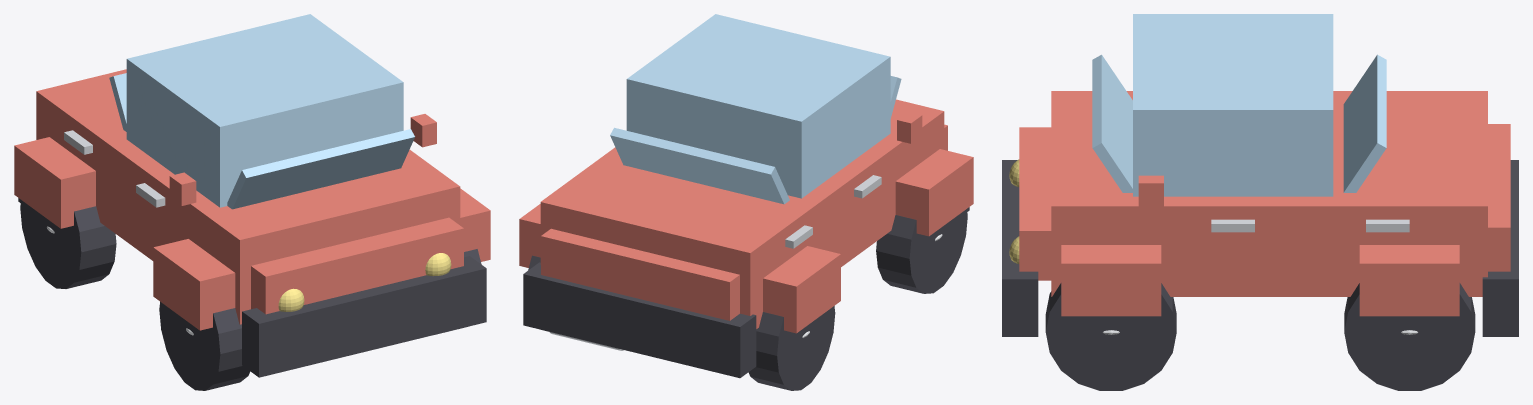
The model's file is car.glb.
3 views of the same model, side by side, from view 1: azimuth 30°, elevation 25°; view 2: azimuth 150°, elevation 25°; view 3: azimuth 270°, elevation 25° (orthographic). The views are drawn at different scales.
Parts seen in each view (by area): view 1: Cabin, Body.001, BumperF, Hood, Windshield, WheelRL, Fender, Fender.002, WheelFL, Fender.001, MirrorL, MirrorR (+5 smaller); view 2: Cabin, Body.001, BumperR, Trunk.001, RearWin, WheelFL, Fender, Fender.002, WheelRL, Fender.003, MirrorL; view 3: Body.001, Cabin, WheelFR, WheelRR, Fender.001, Fender.003, Hood, RearWin, Windshield, BumperF, BumperR, Trunk.001 (+3 smaller).
Part boxes in pixels (bbox=[...]): Cabin: bbox=[126, 14, 403, 207]; Body.001: bbox=[36, 69, 460, 324]; BumperF: bbox=[242, 256, 486, 377]; Hood: bbox=[251, 217, 463, 314]; Windshield: bbox=[227, 129, 414, 209]; WheelRL: bbox=[20, 200, 116, 288]; Fender: bbox=[153, 239, 235, 330]; Fender.002: bbox=[14, 137, 95, 228]; WheelFL: bbox=[159, 301, 250, 390]; Fender.001: bbox=[460, 188, 490, 261]; MirrorL: bbox=[169, 172, 196, 205]; MirrorR: bbox=[410, 114, 436, 147]; Cabin: bbox=[626, 14, 890, 198]; Body.001: bbox=[540, 99, 944, 328]; BumperR: bbox=[523, 262, 756, 378]; Trunk.001: bbox=[541, 228, 739, 320]; RearWin: bbox=[610, 127, 789, 204]; WheelFL: bbox=[876, 209, 967, 293]; Fender: bbox=[895, 149, 973, 236]; Fender.002: bbox=[763, 246, 840, 333]; WheelRL: bbox=[748, 306, 835, 390]; Fender.003: bbox=[519, 204, 540, 267]; MirrorL: bbox=[897, 112, 922, 143]; Body.001: bbox=[1051, 91, 1487, 296]; Cabin: bbox=[1133, 14, 1333, 196]; WheelFR: bbox=[1045, 283, 1176, 390]; WheelRR: bbox=[1344, 283, 1475, 390]; Fender.001: bbox=[1061, 245, 1161, 316]; Fender.003: bbox=[1359, 245, 1459, 316]; Hood: bbox=[1019, 127, 1051, 280]; RearWin: bbox=[1343, 54, 1386, 192]; Windshield: bbox=[1092, 54, 1132, 192]; BumperF: bbox=[1002, 160, 1038, 336]; BumperR: bbox=[1482, 160, 1518, 336]; Trunk.001: bbox=[1488, 124, 1510, 271].
Size of the model in its own units: 1.98 by 1.57 by 2.84.
